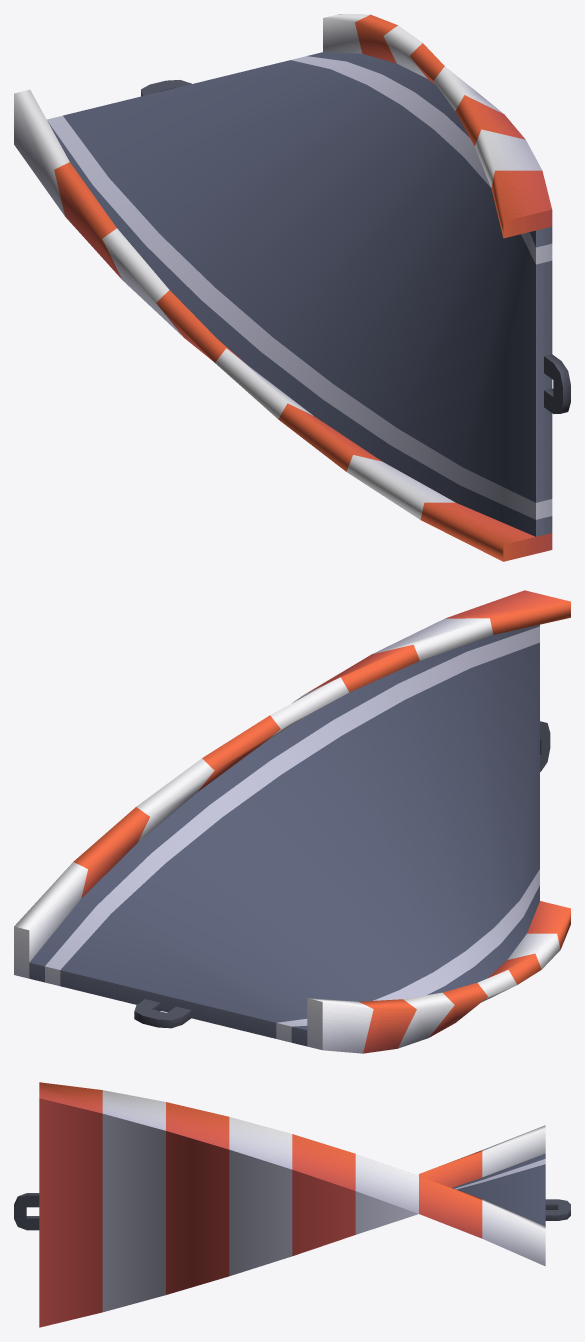
File: track-road-wide-straight-skew-right-side.glb
The picture shows the model from 3 angles, top to bottom: view 1: azimuth 30°, elevation 25°; view 2: azimuth 150°, elevation 25°; view 3: azimuth 270°, elevation 25°; orthographic projection. The views are drawn at different scales.
Parts seen in each view (by area): view 1: track-road-wide-straight-skew-right-side; view 2: track-road-wide-straight-skew-right-side; view 3: track-road-wide-straight-skew-right-side.
Part boxes in pixels (bbox=[...]): track-road-wide-straight-skew-right-side: bbox=[14, 14, 570, 561]; track-road-wide-straight-skew-right-side: bbox=[14, 590, 570, 1053]; track-road-wide-straight-skew-right-side: bbox=[14, 1082, 570, 1327].
Size of the model in its own units: 6.13 by 6.13 by 13.2.
Materials: 1 (1 with a texture image).
